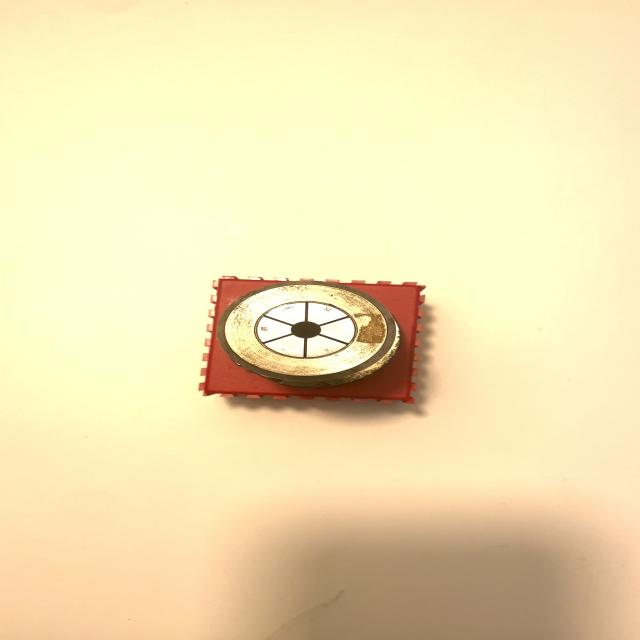Filled_Slot: (216, 281, 400, 387)
